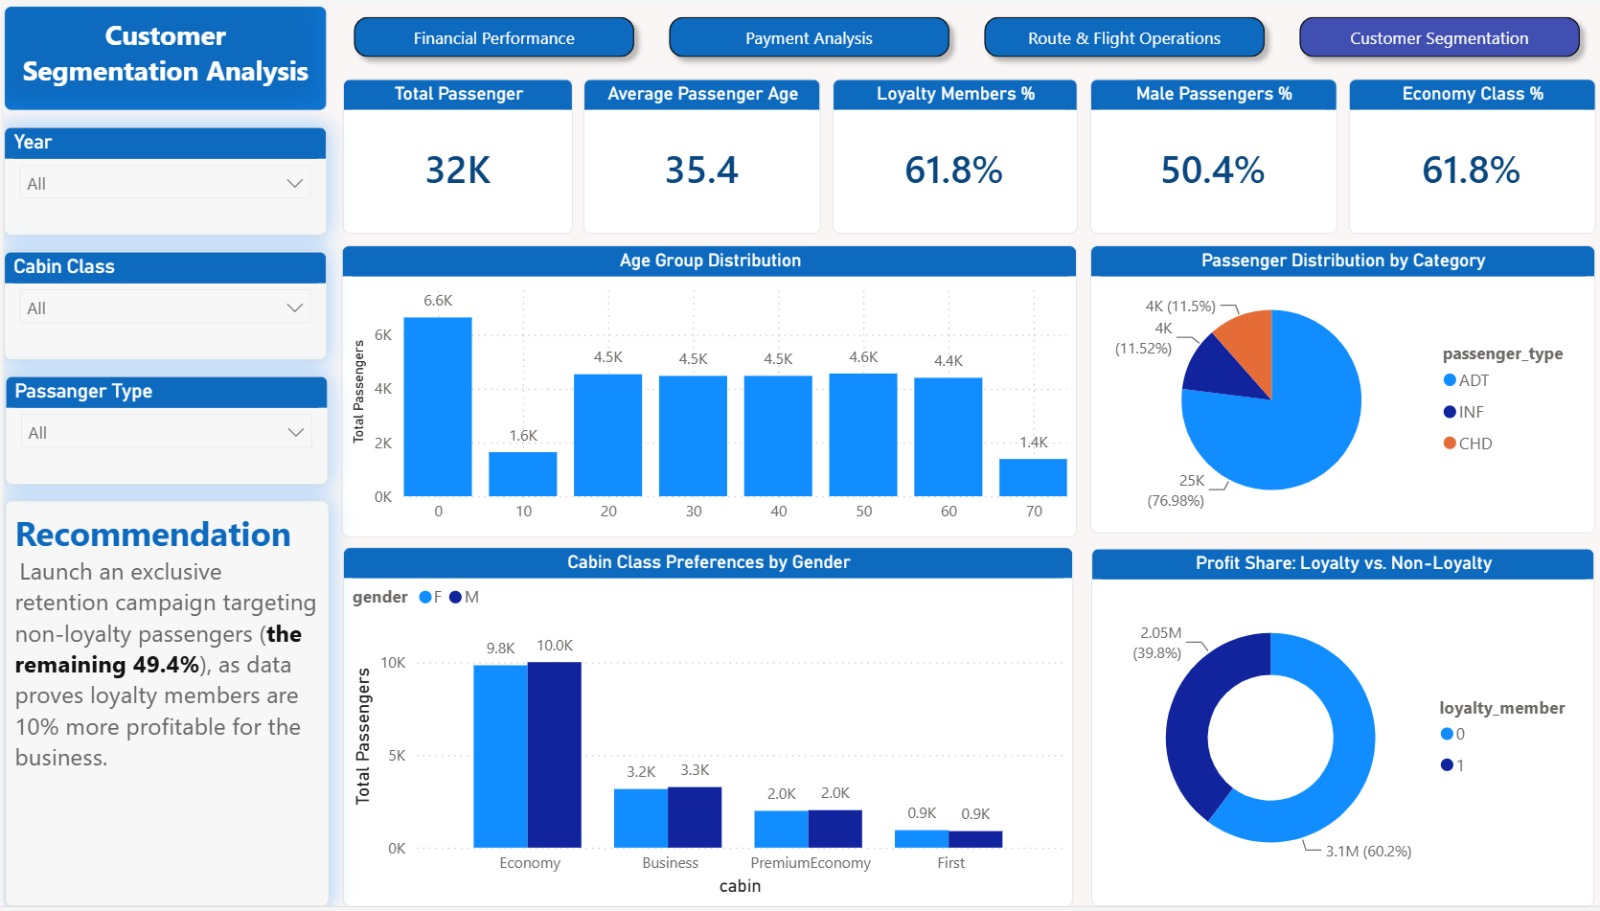

This screenshot's page, from the dashboard's own definition file:
{"tool":"powerbi","page":{"name":"Customer Segmentation","canvas":[1280,720],"ordinal":3},"visuals":[{"type":"textbox","box":[0,0,258.6,84.3],"z":0},{"type":"slicer","title":"Year","fields":{"Values":["Dim_Date.Year"]},"box":[0,96.5,258.1,87.1],"z":0,"group":"g1"},{"type":"slicer","title":"Cabin Class","fields":{"Values":["bookings.cabin"]},"box":[0,195.8,258.1,87.1],"z":0,"group":"g4"},{"type":"slicer","title":"Passanger Type","fields":{"Values":["passengers.passenger_type"]},"box":[1.3,295.7,258.1,87.1],"z":0,"group":"g5"},{"type":"textbox","box":[1.2,395.7,259.4,324.5],"z":0,"group":"g7"},{"type":"textbox","box":[1.4,395.7,257.1,324.3],"z":0,"group":"g6"},{"type":"cardVisual","title":"Total Passenger","fields":{"Data":["_All Measures.Total Passengers"]},"box":[271.4,58.7,184,124.2],"z":1000,"group":"g3"},{"type":"group","id":"g1","title":"Group 1","box":[0,96.5,258.1,87.1],"z":1000,"group":"g8"},{"type":"group","id":"g2","title":"Group 2","box":[270,191.2,1002.5,528.8],"z":1000},{"type":"group","id":"g3","title":"Group 4","box":[271.4,58.6,1001.4,124.3],"z":2000},{"type":"cardVisual","title":"Economy Class %","fields":{"Data":["_All Measures.Economy Passengers %"]},"box":[1075.6,58.6,197.2,124.3],"z":2000,"group":"g3"},{"type":"group","id":"g4","title":"Group 1","box":[0,195.8,258.6,87.4],"z":2000,"group":"g8"},{"type":"cardVisual","title":"Male Passengers %","fields":{"Data":["_All Measures.Male Passengers %"]},"box":[868.9,58.6,197.2,124.3],"z":3000,"group":"g3"},{"type":"group","id":"g5","title":"Group 1","box":[1.3,295.7,258.6,87.4],"z":3000,"group":"g8"},{"type":"group","id":"g6","title":"Group 4","box":[1.4,395.7,257.1,324.3],"z":3000},{"type":"cardVisual","title":"Average Passenger Age","fields":{"Data":["_All Measures.Average Passenger Age"]},"box":[464.1,58.6,189.7,124.3],"z":4000,"group":"g3"},{"type":"group","id":"g7","title":"Group 4","box":[1.2,395.7,259.4,324.5],"z":4000},{"type":"pageNavigator","box":[271.4,0,1001.4,50],"z":5000},{"type":"cardVisual","title":"Loyalty Members %","fields":{"Data":["_All Measures.Loyalty Members %"]},"box":[662.9,58.6,195.7,124.3],"z":5000,"group":"g3"},{"type":"clusteredColumnChart","title":"Age Group Distribution","fields":{"Category":["passengers.age (bins)"],"Y":["_All Measures.Total Passengers"]},"box":[270,191.2,588.4,233.7],"z":7000,"group":"g2"},{"type":"group","id":"g8","title":"Group 5","box":[0,96.5,260.6,287.1],"z":7002},{"type":"donutChart","title":"Profit Share: Loyalty vs. Non-Loyalty","fields":{"Category":["passengers.loyalty_member"],"Y":["_All Measures.Profit by Passenger"]},"box":[869.8,433.7,402.7,286.3],"z":8000,"group":"g2"},{"type":"clusteredColumnChart","title":"Cabin Class Preferences by Gender","fields":{"Category":["bookings.cabin"],"Series":["passengers.gender"],"Y":["_All Measures.Total Passengers"]},"box":[271.4,432.2,584.1,287.7],"z":9000,"group":"g2"},{"type":"pieChart","title":"Passenger Distribution by Category","fields":{"Category":["passengers.passenger_type"],"Y":["_All Measures.Ticketed Passengers Count"]},"box":[868.4,191.2,404.1,230.8],"z":10000,"group":"g2"}]}

Visuals, with their boxes in screenshot pixels (x1, y1, x2, y2), scaled from the page's 1280x720 canvas onto the 1600x911 screenshot:
textbox: locate(0, 0, 323, 107)
"Year" slicer: locate(0, 122, 323, 232)
"Cabin Class" slicer: locate(0, 248, 323, 358)
"Passanger Type" slicer: locate(2, 374, 324, 484)
textbox: locate(2, 501, 326, 910)
textbox: locate(2, 501, 323, 910)
"Total Passenger" cardVisual: locate(339, 74, 569, 231)
"Group 1" group: locate(0, 122, 323, 232)
"Group 2" group: locate(338, 242, 1591, 910)
"Group 4" group: locate(339, 74, 1591, 231)
"Economy Class %" cardVisual: locate(1344, 74, 1591, 231)
"Group 1" group: locate(0, 248, 323, 358)
"Male Passengers %" cardVisual: locate(1086, 74, 1333, 231)
"Group 1" group: locate(2, 374, 325, 485)
"Group 4" group: locate(2, 501, 323, 910)
"Average Passenger Age" cardVisual: locate(580, 74, 817, 231)
"Group 4" group: locate(2, 501, 326, 910)
pageNavigator: locate(339, 0, 1591, 63)
"Loyalty Members %" cardVisual: locate(829, 74, 1073, 231)
"Age Group Distribution" clusteredColumnChart: locate(338, 242, 1073, 538)
"Group 5" group: locate(0, 122, 326, 485)
"Profit Share: Loyalty vs. Non-Loyalty" donutChart: locate(1087, 549, 1591, 910)
"Cabin Class Preferences by Gender" clusteredColumnChart: locate(339, 547, 1069, 910)
"Passenger Distribution by Category" pieChart: locate(1086, 242, 1591, 534)
